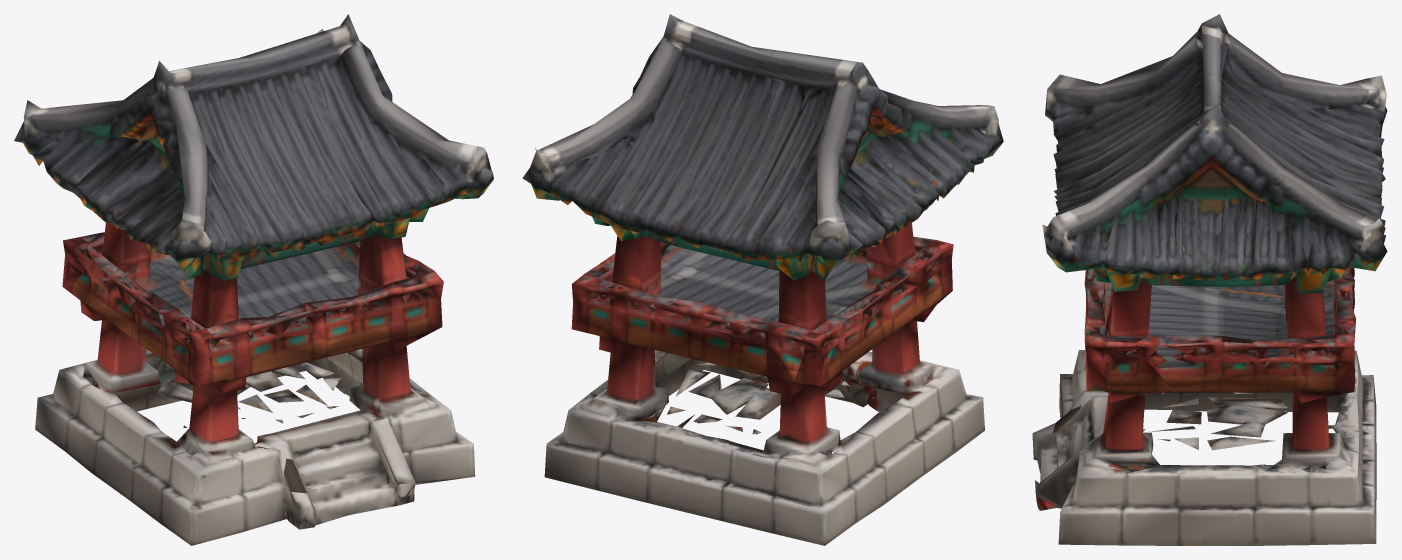
The model's file is pavilion.glb.
3 views of the same model, side by side, from view 1: azimuth 30°, elevation 25°; view 2: azimuth 150°, elevation 25°; view 3: azimuth 270°, elevation 25° (orthographic).
Visible parts, largest first — view 1: low; view 2: low; view 3: low.
Boxes of the visible parts, left/top/right/bottom form: low: left=14, top=14, right=493, bottom=545; low: left=522, top=14, right=1003, bottom=545; low: left=1032, top=14, right=1387, bottom=545.
Bounding box in the file's own units: 0.8151 × 1.01 × 0.777.
1 material, 1 textured.
